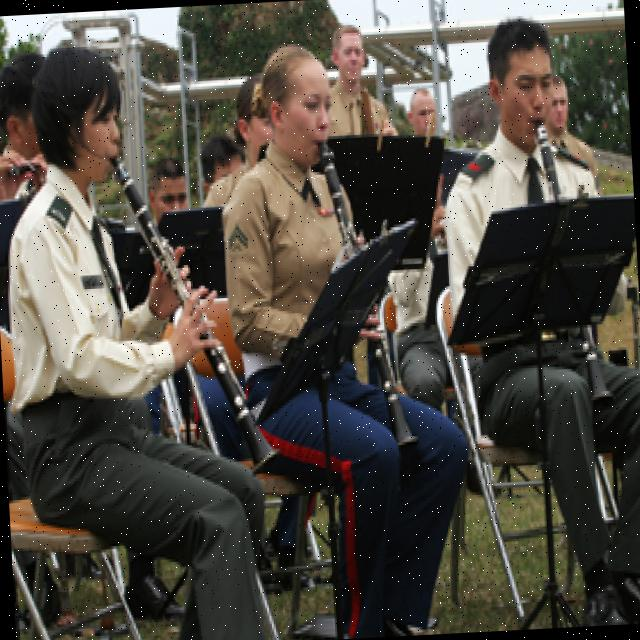clarinet: (106, 142, 286, 489), (316, 136, 424, 460), (534, 118, 616, 418)
